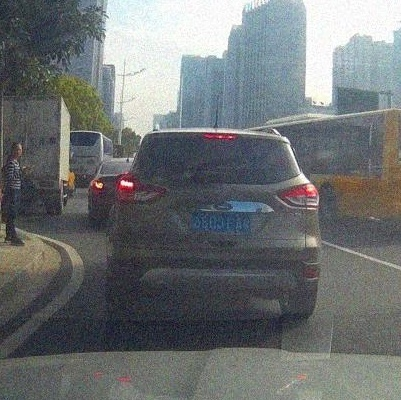L_light: (114, 177, 166, 203)
R_light: (273, 181, 319, 209)
T_light: (202, 133, 238, 141)
day-left: (109, 127, 320, 319)
